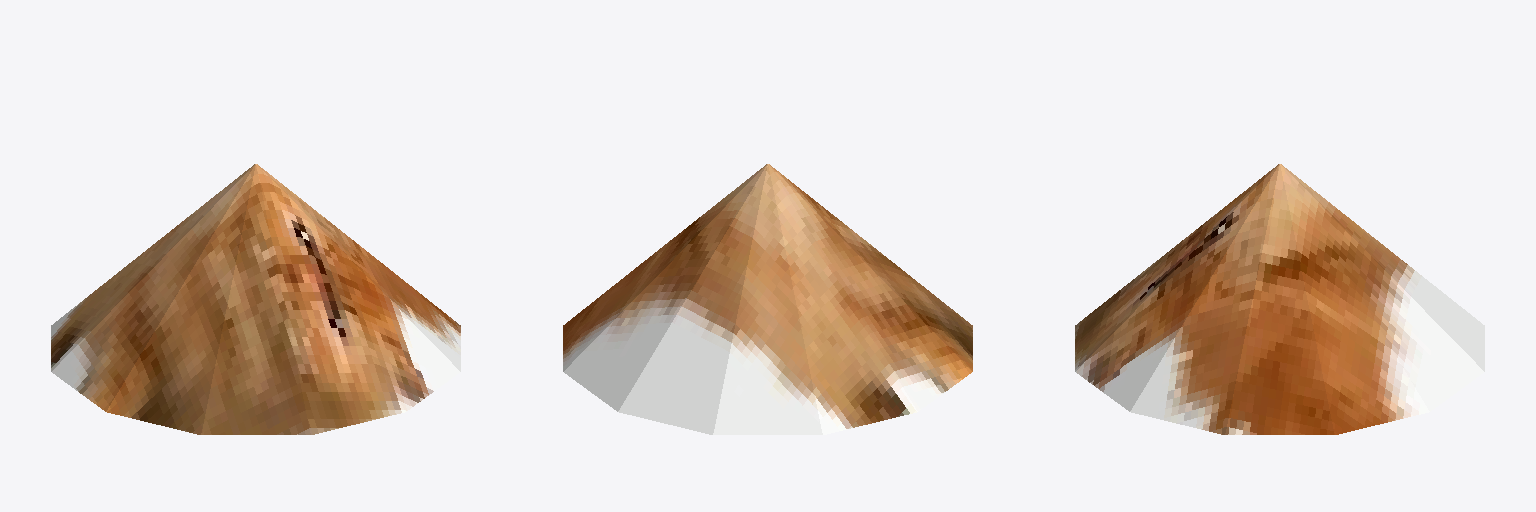
3 views of the same model, side by side, from view 1: azimuth 30°, elevation 25°; view 2: azimuth 150°, elevation 25°; view 3: azimuth 270°, elevation 25° (orthographic).
Visible parts, largest first — view 1: cone; view 2: cone; view 3: cone.
Boxes of the visible parts, <box> form: cone: <box>51,164,460,434</box>; cone: <box>563,164,972,434</box>; cone: <box>1075,164,1484,434</box>.
Size of the model in its own units: 1 by 0.5 by 1.
Materials: 1 (1 with a texture image).